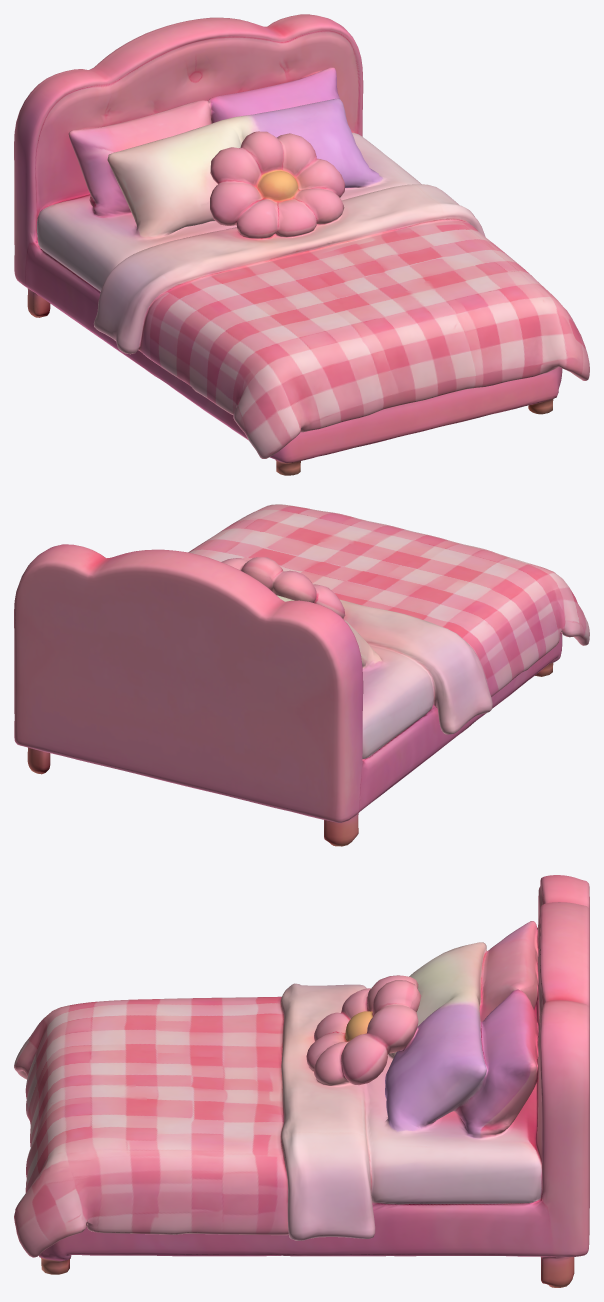
Rendered from bed.glb.
3 views of the same model, one above another, from view 1: azimuth 30°, elevation 25°; view 2: azimuth 150°, elevation 25°; view 3: azimuth 270°, elevation 25° (orthographic). The views are drawn at different scales.
Parts seen in each view (by area): view 1: model; view 2: model; view 3: model.
Part boxes in pixels (x1,y1,x2,y2): model: (14, 14, 589, 475); model: (14, 504, 589, 846); model: (14, 875, 589, 1287).
Bounding box in the file's own units: 1.6 × 1.02 × 1.9.
Materials: 1 (1 with a texture image).
